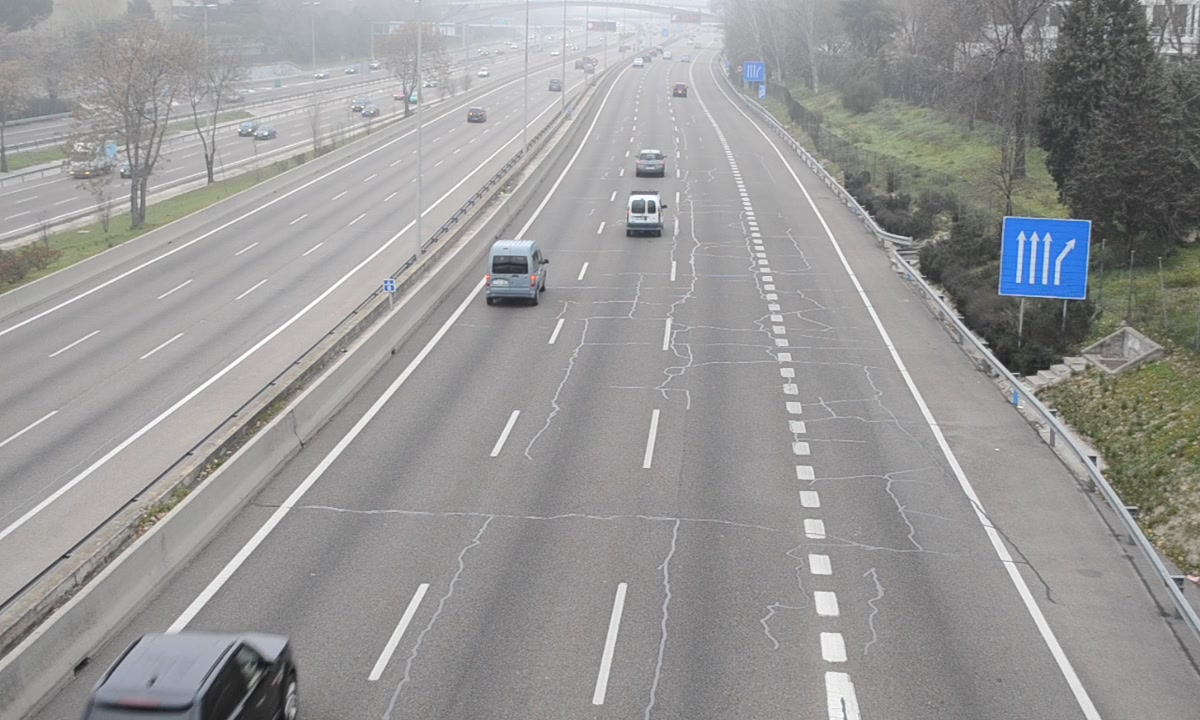car: (635, 149, 666, 177)
van: (489, 241, 546, 302), (626, 191, 663, 235)
